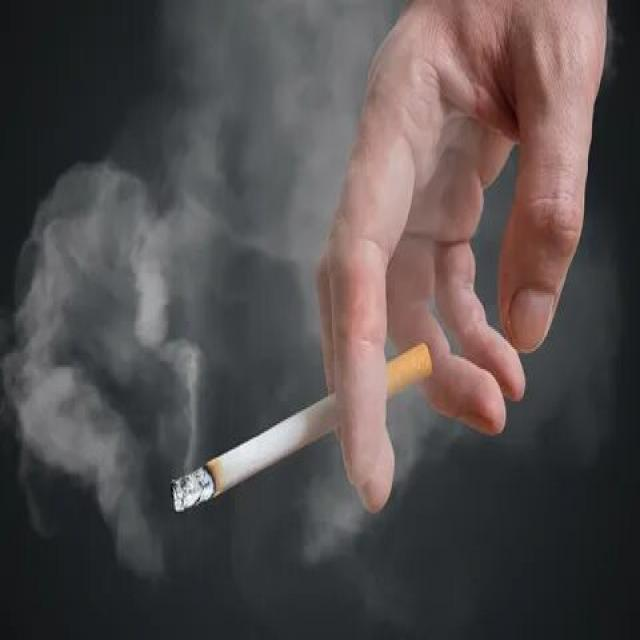cigarette: (168, 337, 433, 518)
